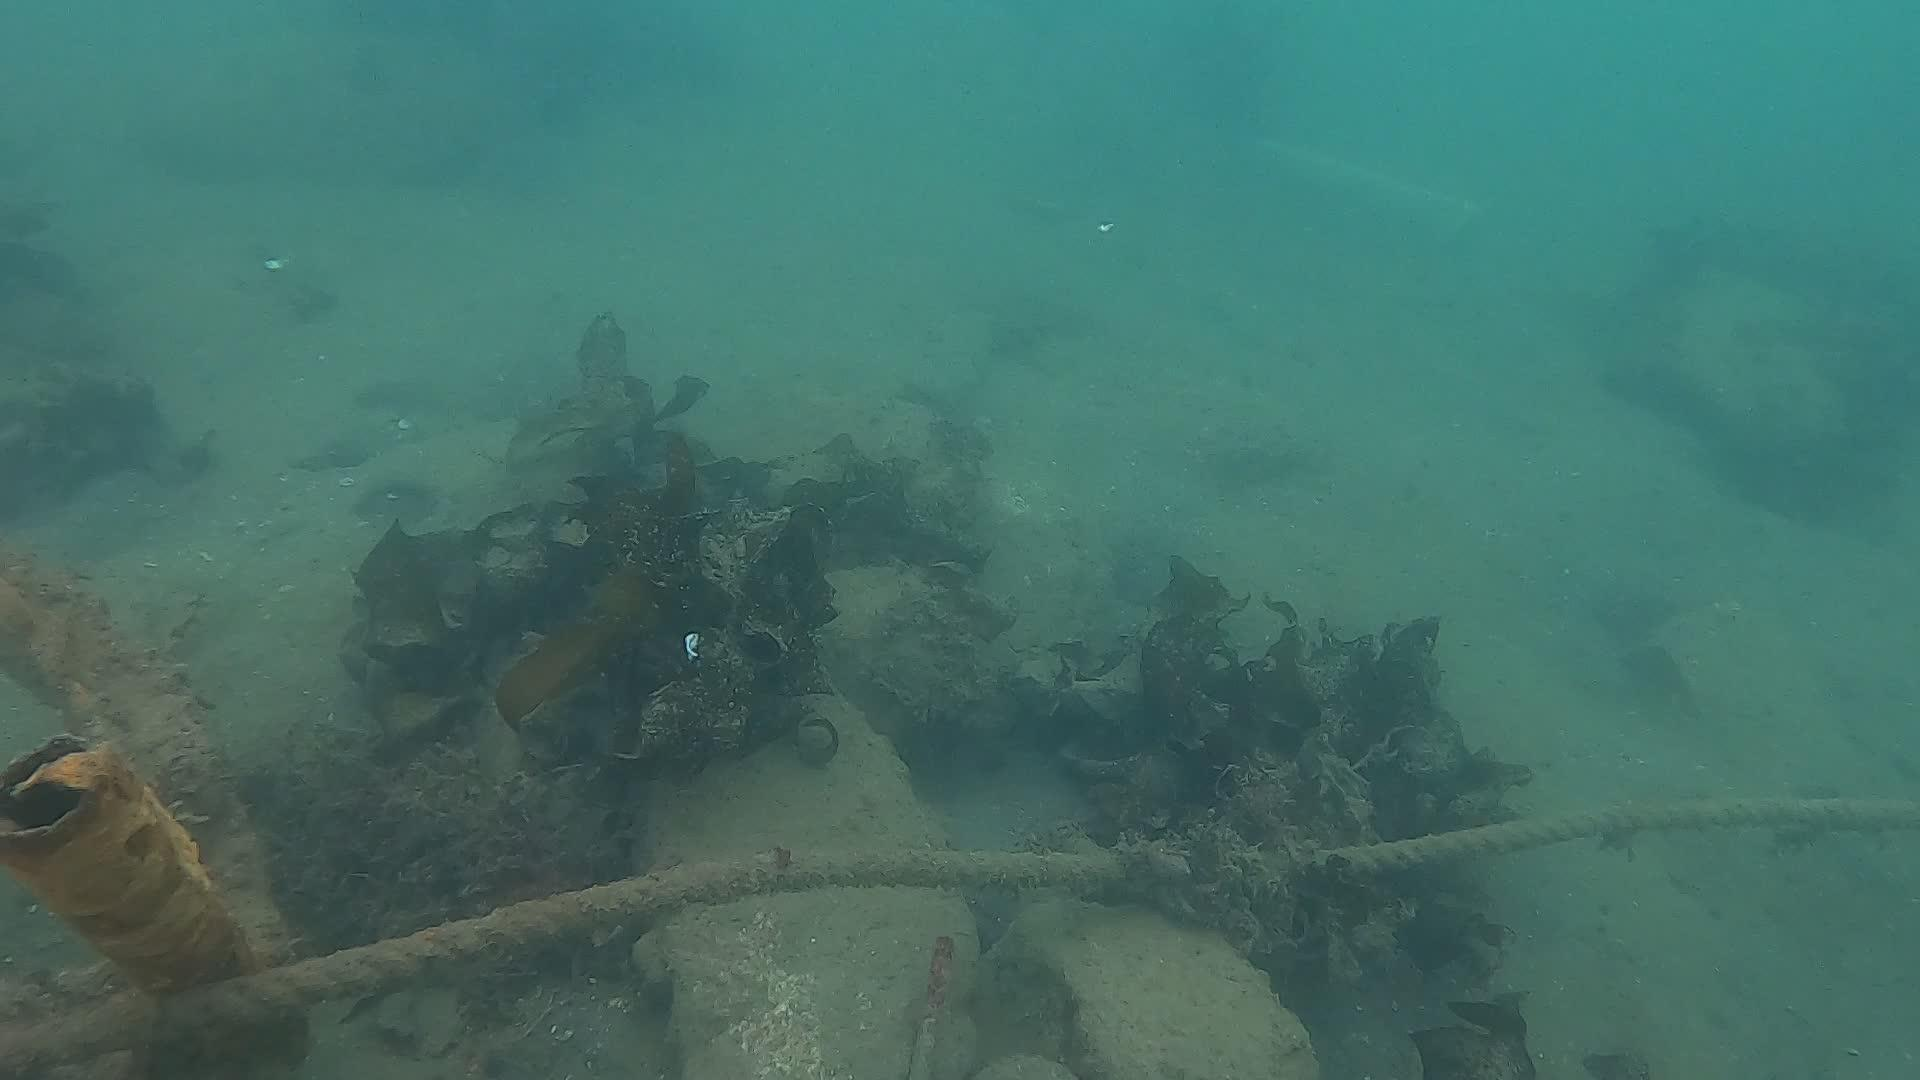rope: (0, 787, 1920, 1080)
